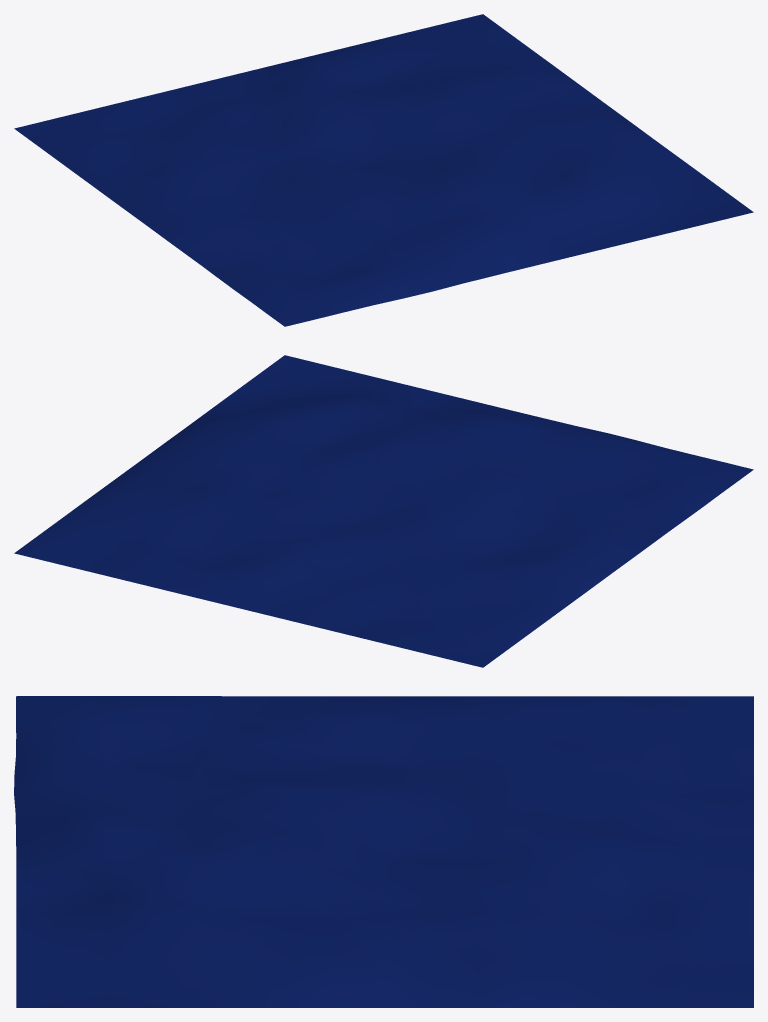
File: sea.obj
The picture shows the model from 3 angles, top to bottom: view 1: azimuth 30°, elevation 25°; view 2: azimuth 150°, elevation 25°; view 3: azimuth 270°, elevation 25°; orthographic projection. The views are drawn at different scales.
Visible parts, largest first — view 1: Plane; view 2: Plane; view 3: Plane.
Part boxes in pixels (left/top/right/bottom): Plane: left=14, top=14, right=753, bottom=326; Plane: left=14, top=355, right=753, bottom=667; Plane: left=14, top=696, right=753, bottom=1007.
Bounding box in the file's own units: 2 × 0.0977 × 2.01.
